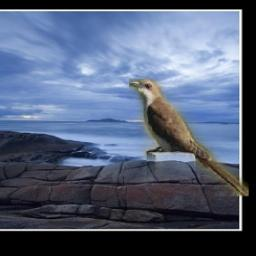Cuckoo: (129, 79, 249, 196)
